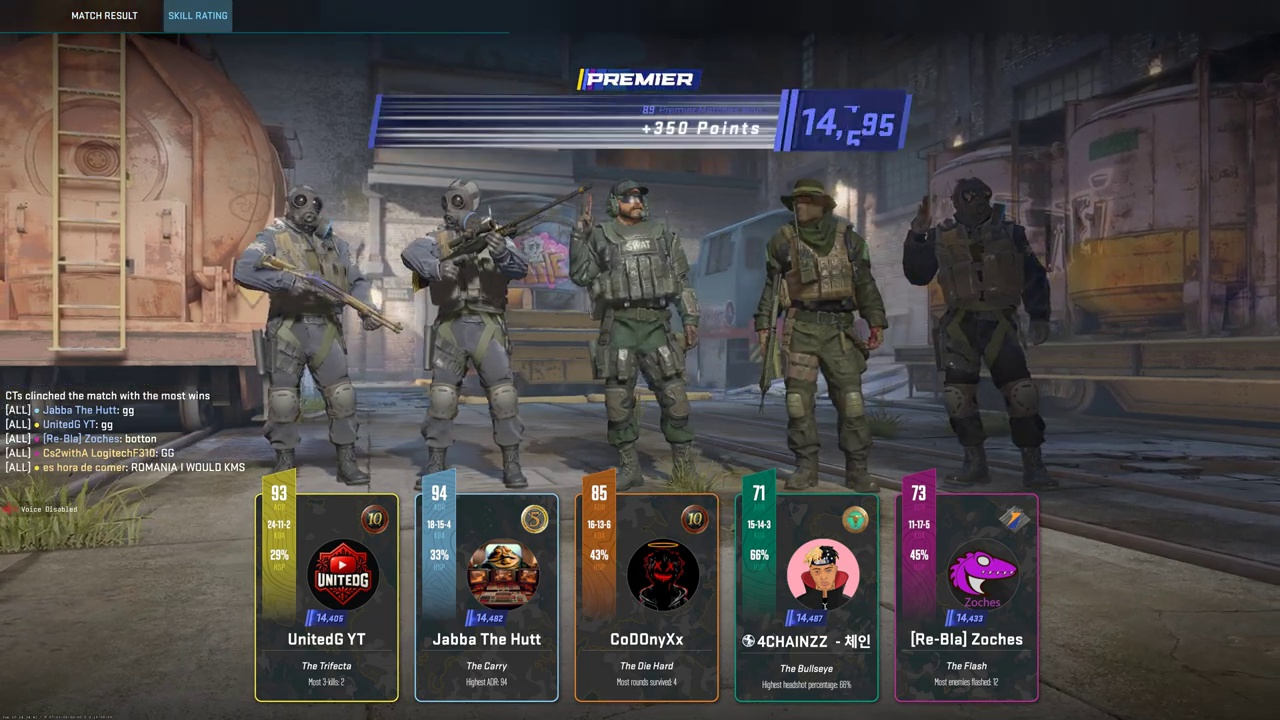CT: (766, 179, 885, 487), (408, 178, 526, 487), (929, 176, 1043, 491), (578, 179, 693, 490), (253, 184, 371, 487)
